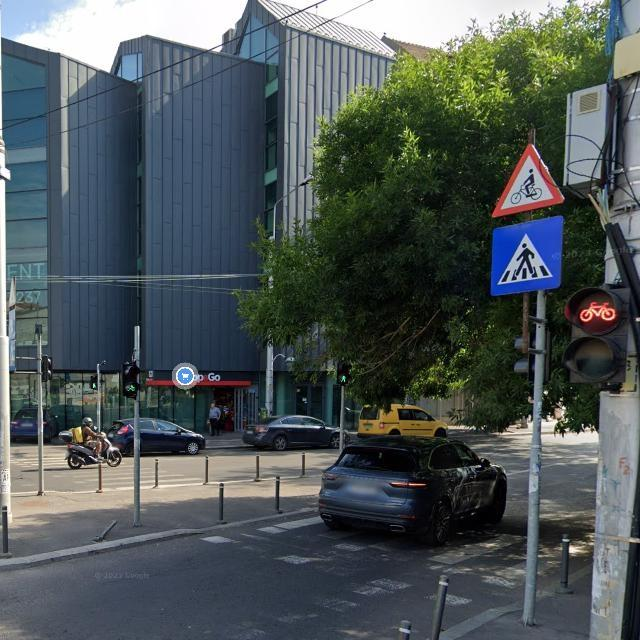info_crosswalk: (489, 215, 564, 295)
